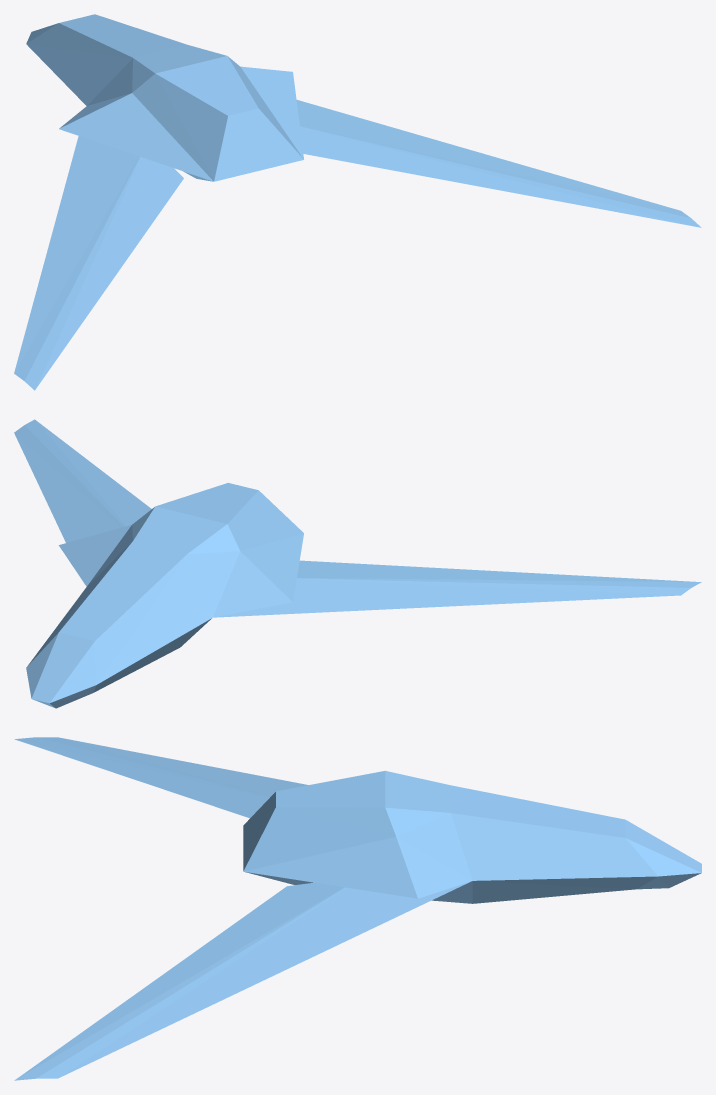
Rendered from Fighter.FBX.
The picture shows the model from 3 angles, top to bottom: view 1: azimuth 30°, elevation 25°; view 2: azimuth 150°, elevation 25°; view 3: azimuth 270°, elevation 25°; orthographic projection. The views are drawn at different scales.
Visible parts, largest first — view 1: VIFS002, VIFS001, VIFS003, VIFS004; view 2: VIFS001, VIFS004, VIFS002, VIFS003; view 3: VIFS001, VIFS002, VIFS004, VIFS003.
Boxes of the visible parts, x1,y1,x2,y2 form: VIFS002: [24, 66, 701, 390]; VIFS001: [14, 44, 690, 380]; VIFS003: [132, 56, 303, 181]; VIFS004: [26, 14, 186, 105]; VIFS001: [14, 425, 690, 708]; VIFS004: [26, 541, 212, 703]; VIFS002: [24, 419, 701, 617]; VIFS003: [156, 483, 303, 550]; VIFS001: [36, 737, 701, 1078]; VIFS002: [14, 737, 471, 1080]; VIFS004: [450, 785, 701, 880]; VIFS003: [243, 771, 395, 871].
Size of the model in its own units: 1.48 by 0.244 by 1.26.
